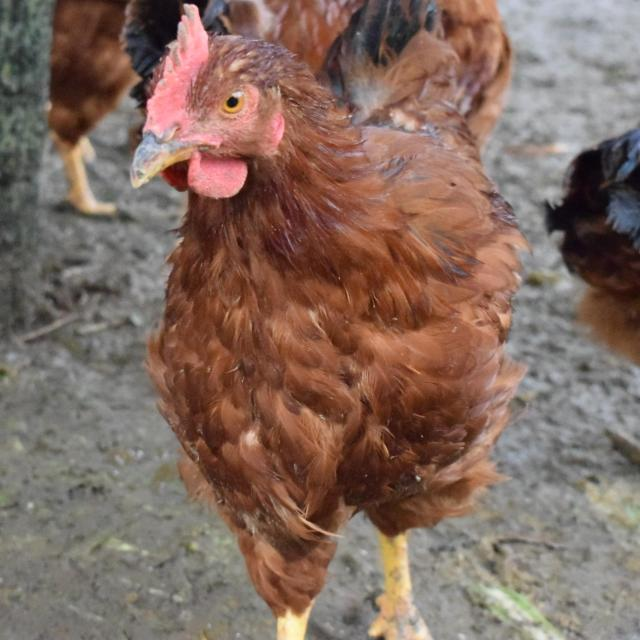cook: (125, 0, 525, 640)
